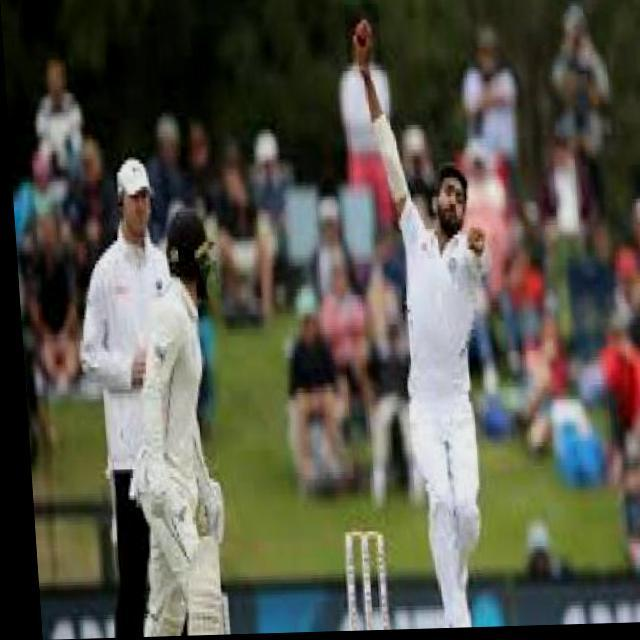-: (344, 6, 381, 65)
